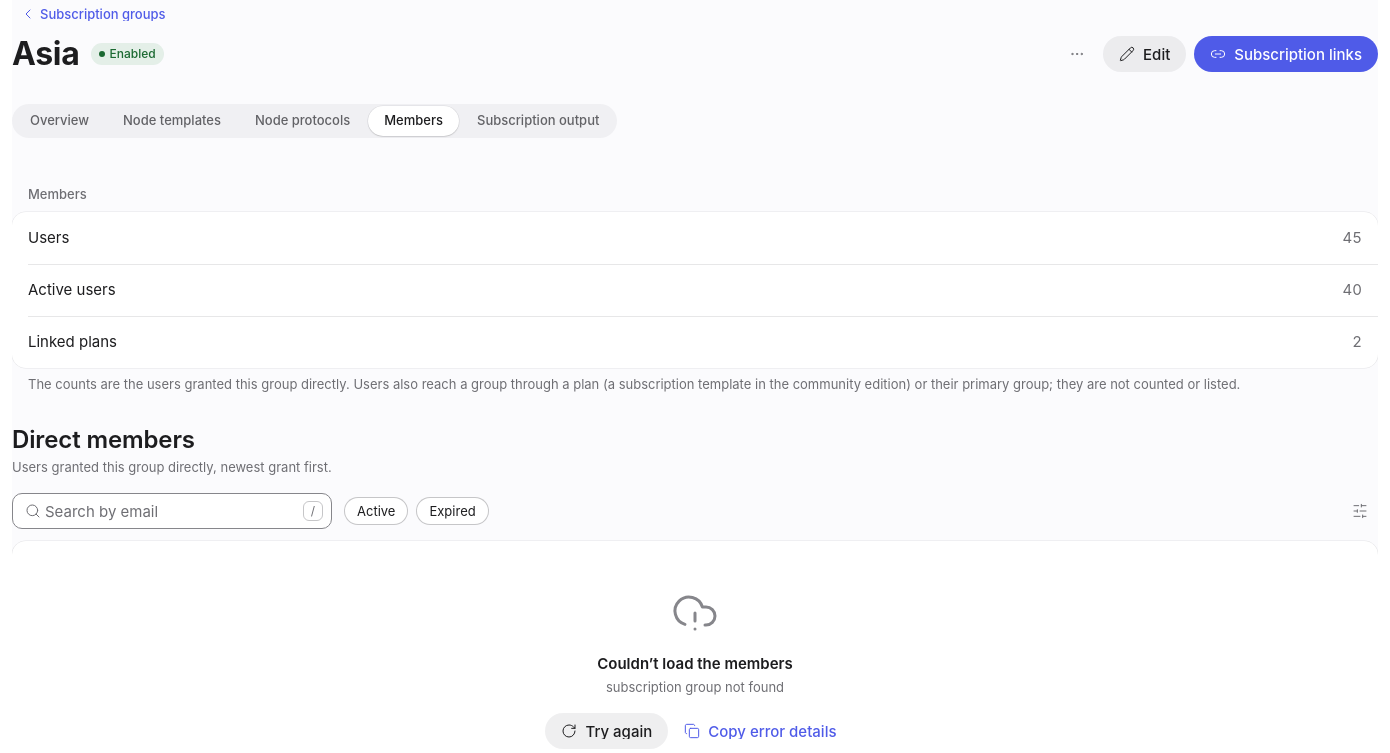
Test: Admin subscription groups › group members (GET /api/v4/admin/subscription-groups/:id/members) › shows a load error with Try again and keeps the rest of the page
The image size is (1390, 753).
expect the message shows "Couldn’t load the members": met, box [597,654,793,673]
expect the heading "Asia" is shown: met, box [12,36,79,72]
Click the button "Try again".
click(607, 731)  # box [546,713,668,749]
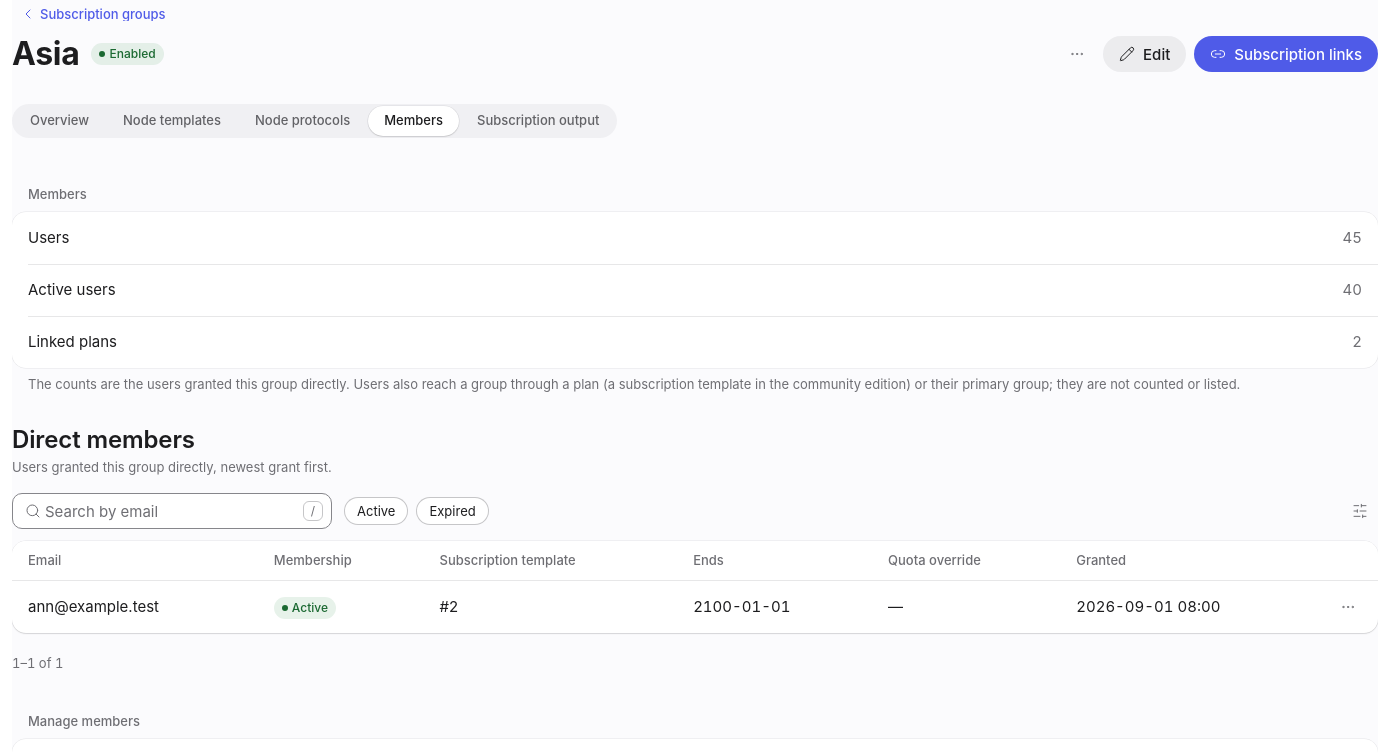
expect the text "ann@example.test" is shown: met, box [28,596,159,618]
